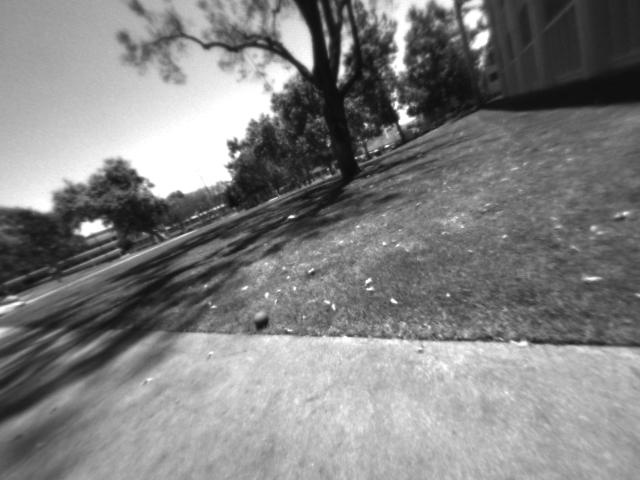dogtoy: (244, 305, 278, 333)
